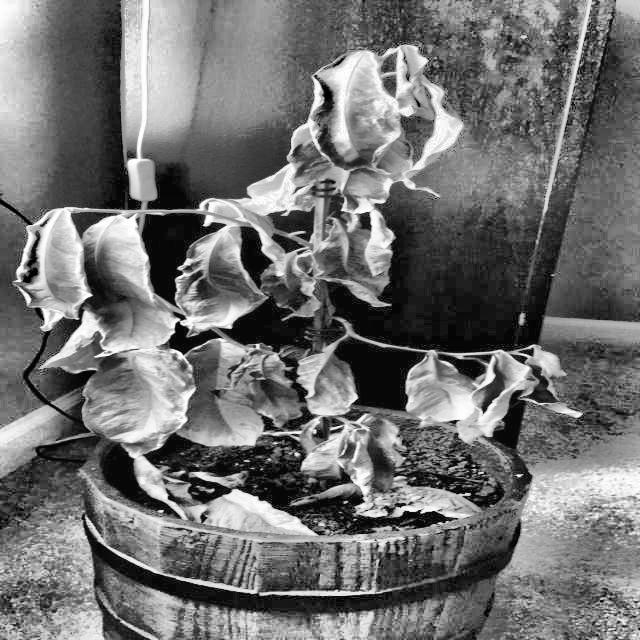plants: (1, 50, 556, 640)
